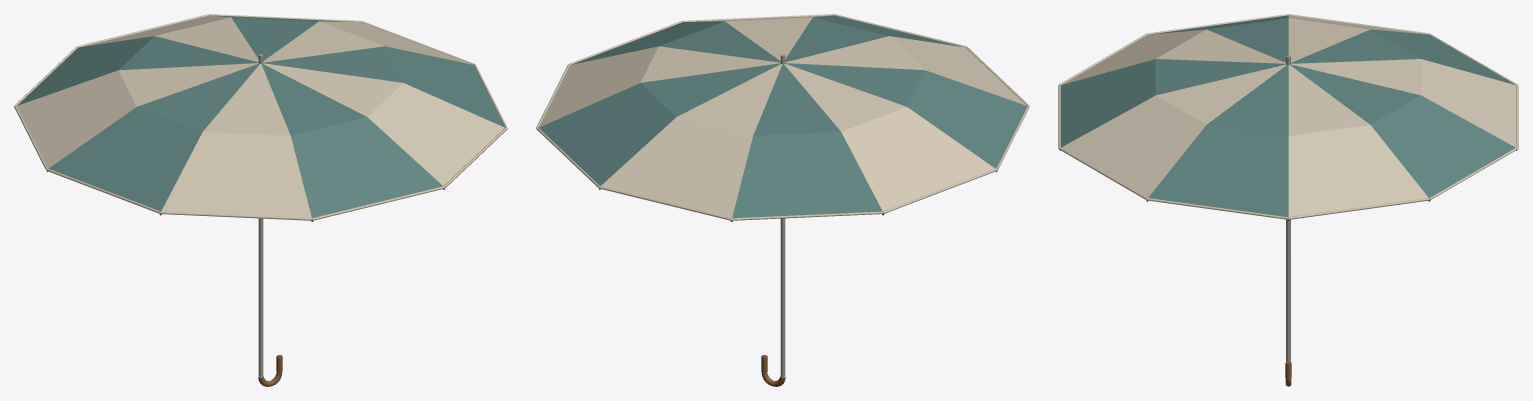
Rendered from komachi-umbrella.glb.
3 renders of one model, left to right at view 1: azimuth 30°, elevation 25°; view 2: azimuth 150°, elevation 25°; view 3: azimuth 270°, elevation 25°, orthographic. The views are drawn at different scales.
Visible parts, largest first — view 1: Canopy_Panels, Prop_Body; view 2: Canopy_Panels, Prop_Body; view 3: Canopy_Panels, Prop_Body.
Part boxes in pixels (<box>): Canopy_Panels: <box>14,14,507,220</box>; Prop_Body: <box>258,54,282,386</box>; Canopy_Panels: <box>536,14,1029,220</box>; Prop_Body: <box>761,54,785,386</box>; Canopy_Panels: <box>1058,14,1518,219</box>; Prop_Body: <box>1285,55,1291,386</box>.
Bounding box in the file's own units: 0.4624 × 0.343 × 0.4401.
